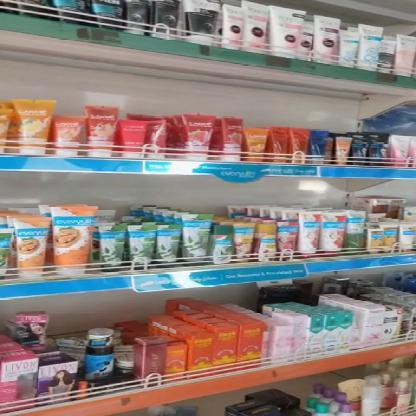EY EXF WALNUT SCRUB AYR 200G: (50, 204, 93, 274), (7, 217, 45, 279)
EY NATURALS NEEM FACE WASH AY 50G: (182, 213, 209, 266), (98, 228, 124, 270), (156, 225, 181, 266), (128, 226, 154, 264)
